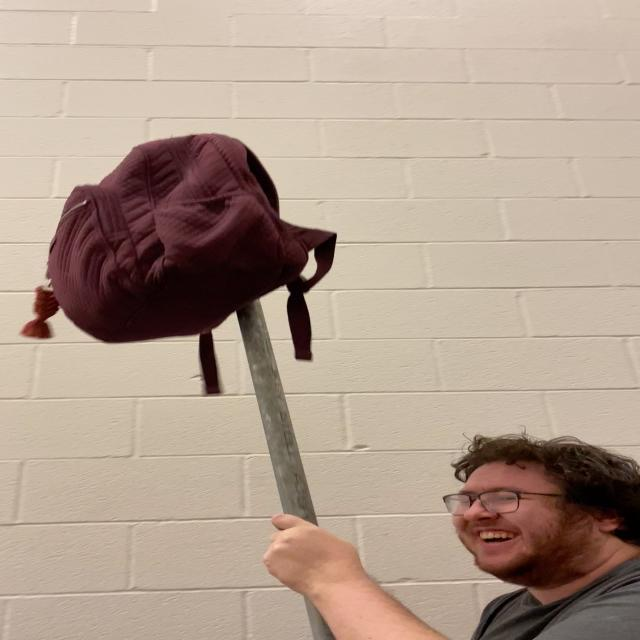Backpacks: (45, 133, 307, 344)
